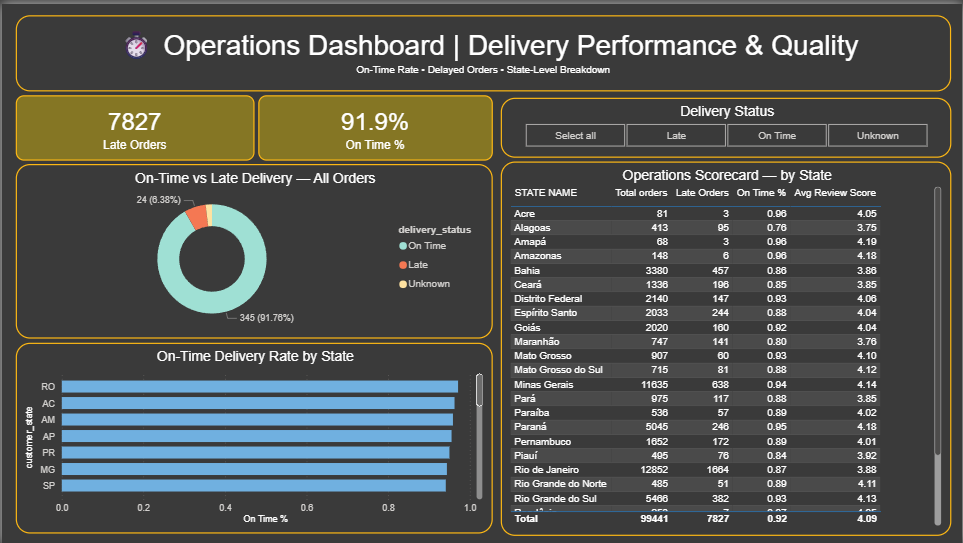

The page's visual inventory and layout, read from the dashboard file:
{"tool":"powerbi","page":{"name":"Page 4","canvas":[1280,720],"ordinal":3},"visuals":[{"type":"textbox","box":[18.6,15.7,1247.1,101.4],"z":0},{"type":"card","fields":{"Values":["Measures (2).Late Orders"]},"box":[18.9,122.2,318.5,87.3],"z":1000},{"type":"card","fields":{"Values":["Measures (2).On Time %"]},"box":[341.8,122.2,312.7,87.3],"z":2000},{"type":"donutChart","title":"On-Time vs Late Delivery — All Orders","fields":{"Y":["CountNonNull(olist payments.order_id)"],"Category":["olist orders.delivery_status"]},"box":[18.9,213.8,635.6,232.7],"z":3000},{"type":"clusteredBarChart","title":"On-Time Delivery Rate by State","fields":{"Category":["olist customers.customer_state"],"Y":["Measures (2).On Time %"]},"box":[18.9,452.4,635.6,254.5],"z":4000},{"type":"tableEx","title":"Operations Scorecard — by State","fields":{"Values":["olist customers.STATE NAME","Measures (2).Total orders","Measures (2).Late Orders","Measures (2).On Time %","Measures (2).Avg Review Score"]},"box":[664.7,209.5,600.7,498.9],"z":5000},{"type":"slicer","title":" Delivery Status","fields":{"Values":["olist orders.delivery_status"]},"box":[664.7,125.1,600.7,80],"z":6000}]}

Visuals, with their boxes in screenshot pixels (x1, y1, x2, y2), scaled from the page's 1280x720 canvas onto the 963x543 screenshot:
textbox: pyautogui.locateOnScreen(14, 12, 952, 88)
card - Measures (2).Late Orders: pyautogui.locateOnScreen(14, 92, 254, 158)
card - Measures (2).On Time %: pyautogui.locateOnScreen(257, 92, 492, 158)
"On-Time vs Late Delivery — All Orders" donutChart: pyautogui.locateOnScreen(14, 161, 492, 337)
"On-Time Delivery Rate by State" clusteredBarChart: pyautogui.locateOnScreen(14, 341, 492, 533)
"Operations Scorecard — by State" tableEx: pyautogui.locateOnScreen(500, 158, 952, 534)
" Delivery Status" slicer: pyautogui.locateOnScreen(500, 94, 952, 155)
